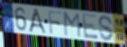6: (14, 6, 28, 33)
A: (28, 8, 47, 35)
E: (81, 12, 99, 40)
F: (48, 10, 63, 35)
M: (63, 11, 82, 39)
S: (98, 14, 114, 43)
